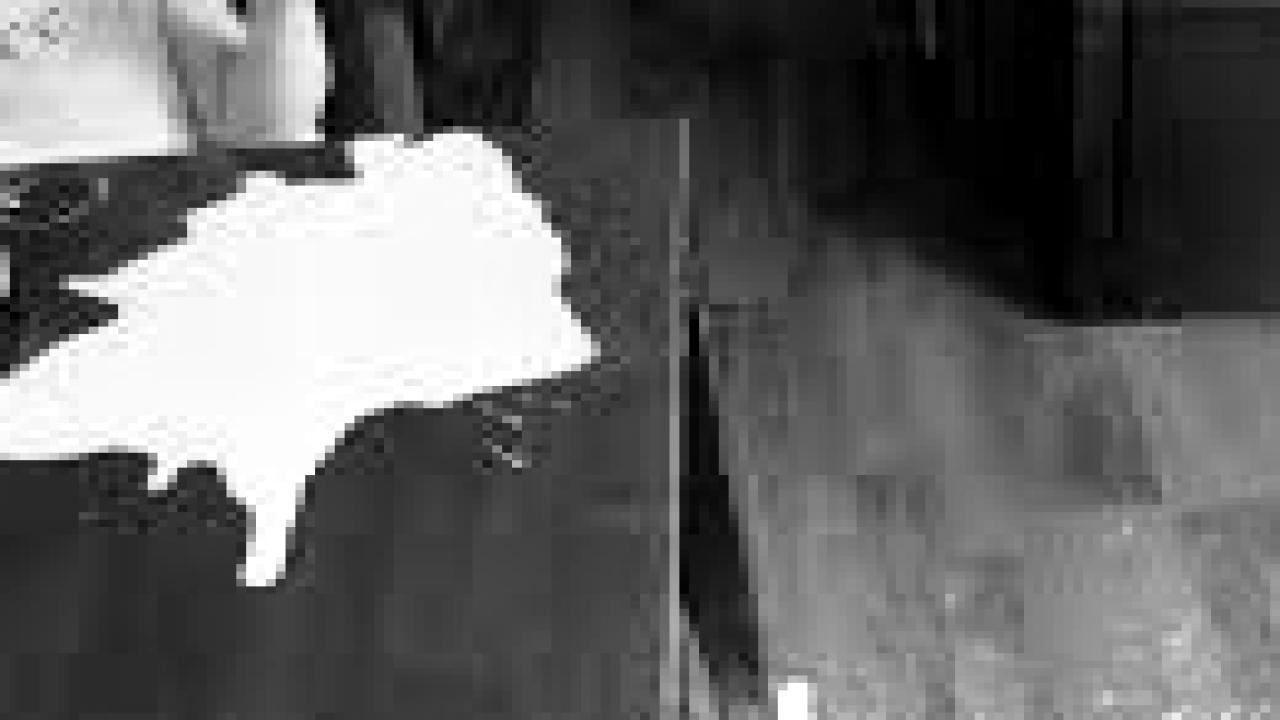drinks Stains: (0, 148, 620, 601)
